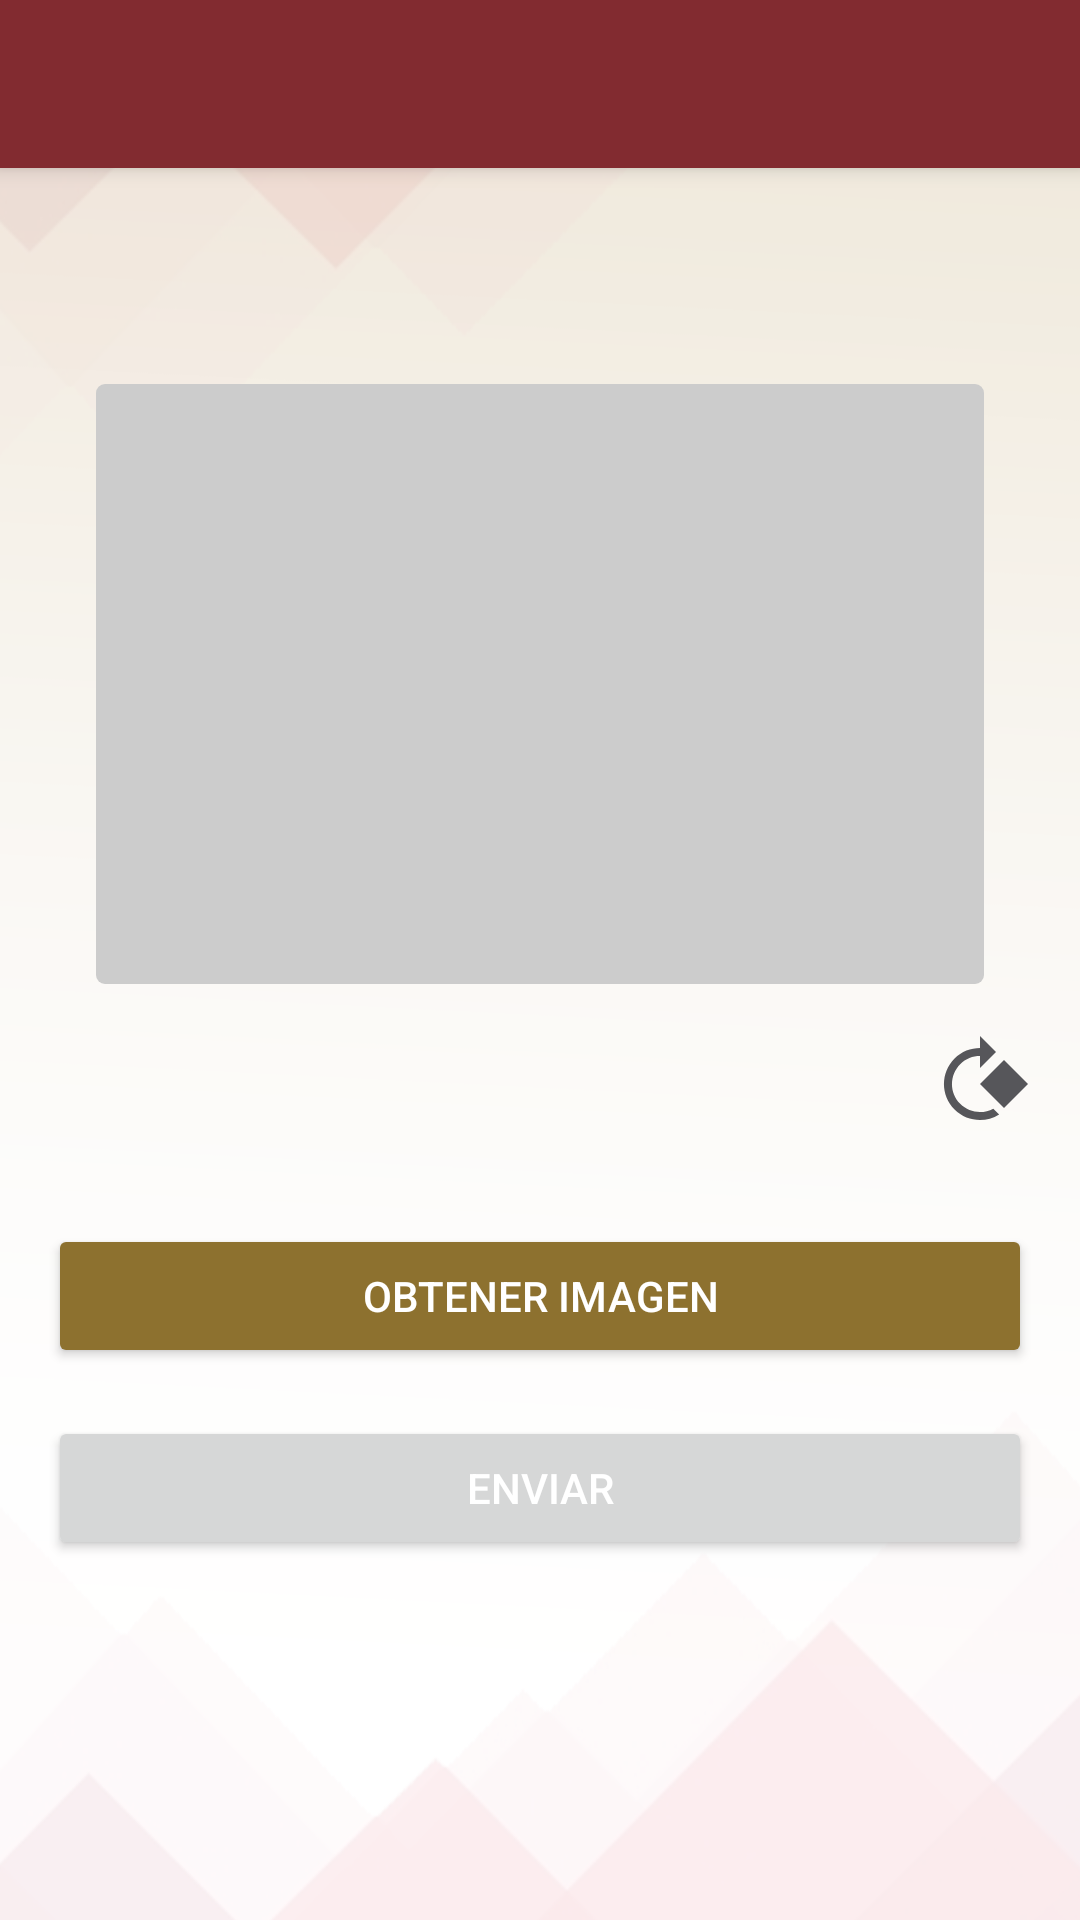

Where to tap for icons on this 1080w x 1920h app screen, as (x,y):
rotate degrees cw: (986,1078)
